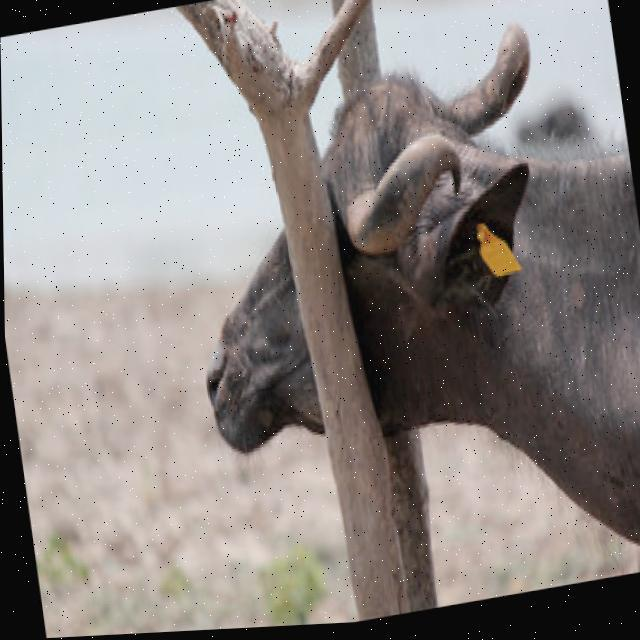Buffalo: (162, 4, 640, 632)
